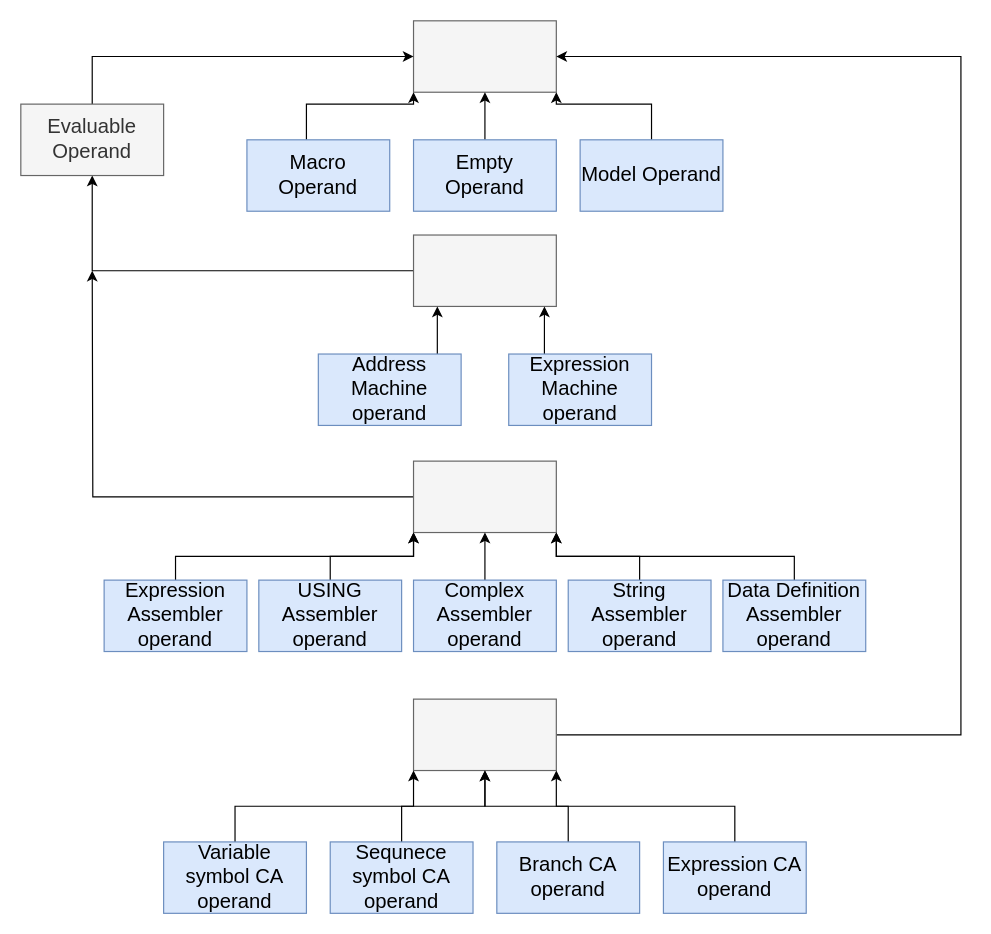
This 991x934 diagram has some shape labels left out. Each missing label, with the box of its shape:
Assembler Operand: (412, 460, 556, 533)
Conditional Assembly Operand: (412, 698, 556, 771)
Machine Operand: (412, 234, 556, 306)
Operand: (412, 20, 556, 92)
